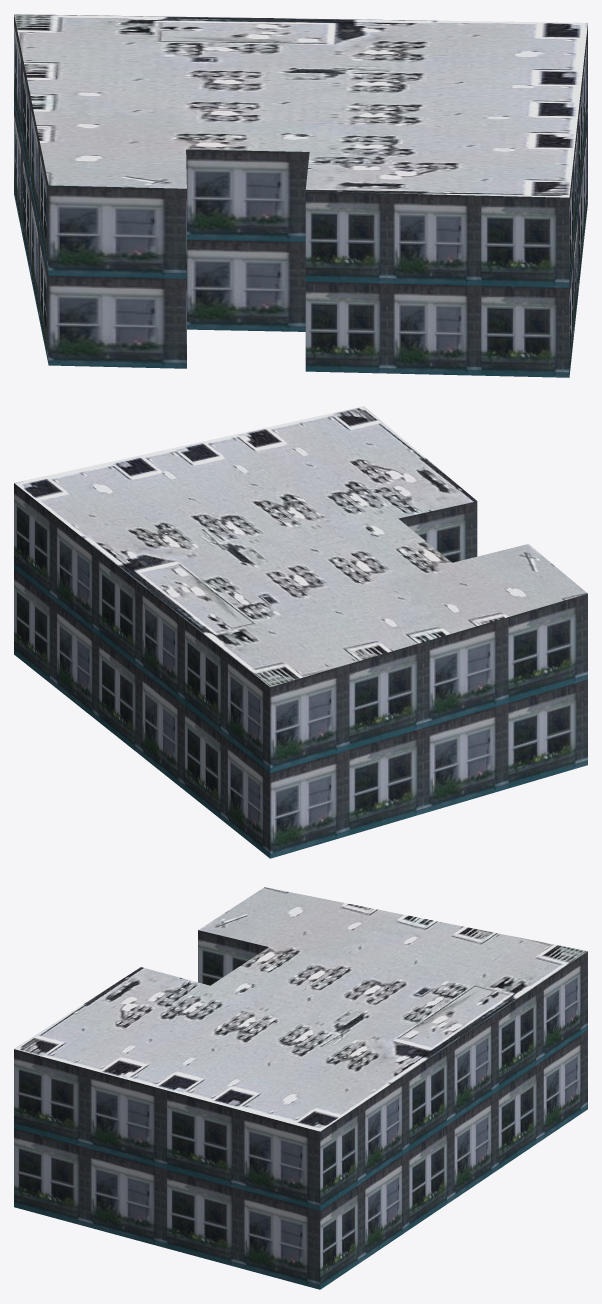
File: ResTex__5341.fbx
The picture shows the model from 3 angles, top to bottom: view 1: azimuth 30°, elevation 25°; view 2: azimuth 150°, elevation 25°; view 3: azimuth 270°, elevation 25°; orthographic projection. The views are drawn at different scales.
Parts seen in each view (by area): view 1: CityEngineMaterial_11_m, CityEngineMaterial_m; view 2: CityEngineMaterial_11_m, CityEngineMaterial_m; view 3: CityEngineMaterial_11_m, CityEngineMaterial_m.
Part boxes in pixels (left/top/right/bottom): CityEngineMaterial_11_m: left=14, top=15, right=587, bottom=377; CityEngineMaterial_m: left=14, top=14, right=587, bottom=197; CityEngineMaterial_11_m: left=14, top=483, right=587, bottom=858; CityEngineMaterial_m: left=14, top=406, right=587, bottom=687; CityEngineMaterial_11_m: left=14, top=930, right=587, bottom=1289; CityEngineMaterial_m: left=14, top=887, right=587, bottom=1131.
Bounding box in the file's own units: 19.91 × 6 × 19.74.
Materials: 2 (2 with a texture image).
